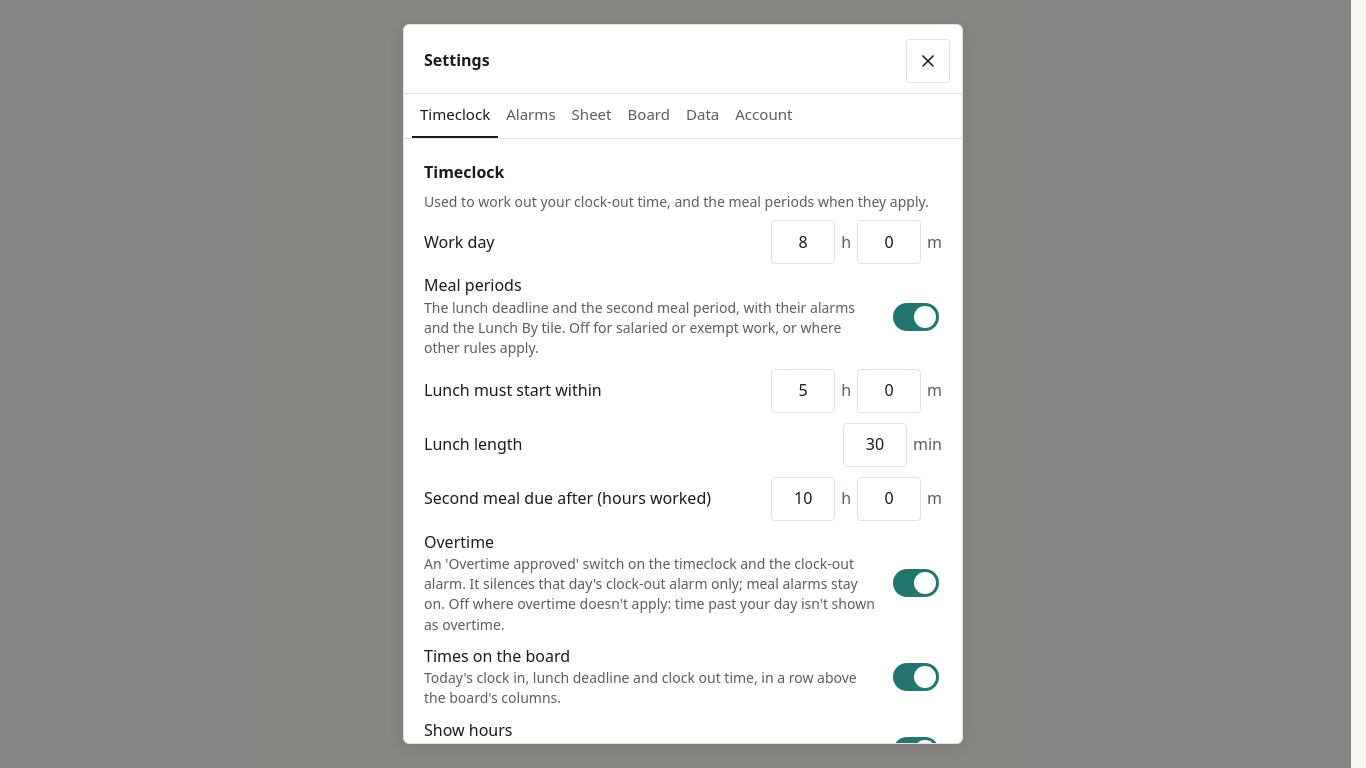
Test: SettingsDialog › saves a category change on the Board tab through the header
What coordinates should you click on to do the following:
click the tab "Board"
I would click on:
 (649, 116)
Its box is [620,94,678,138].
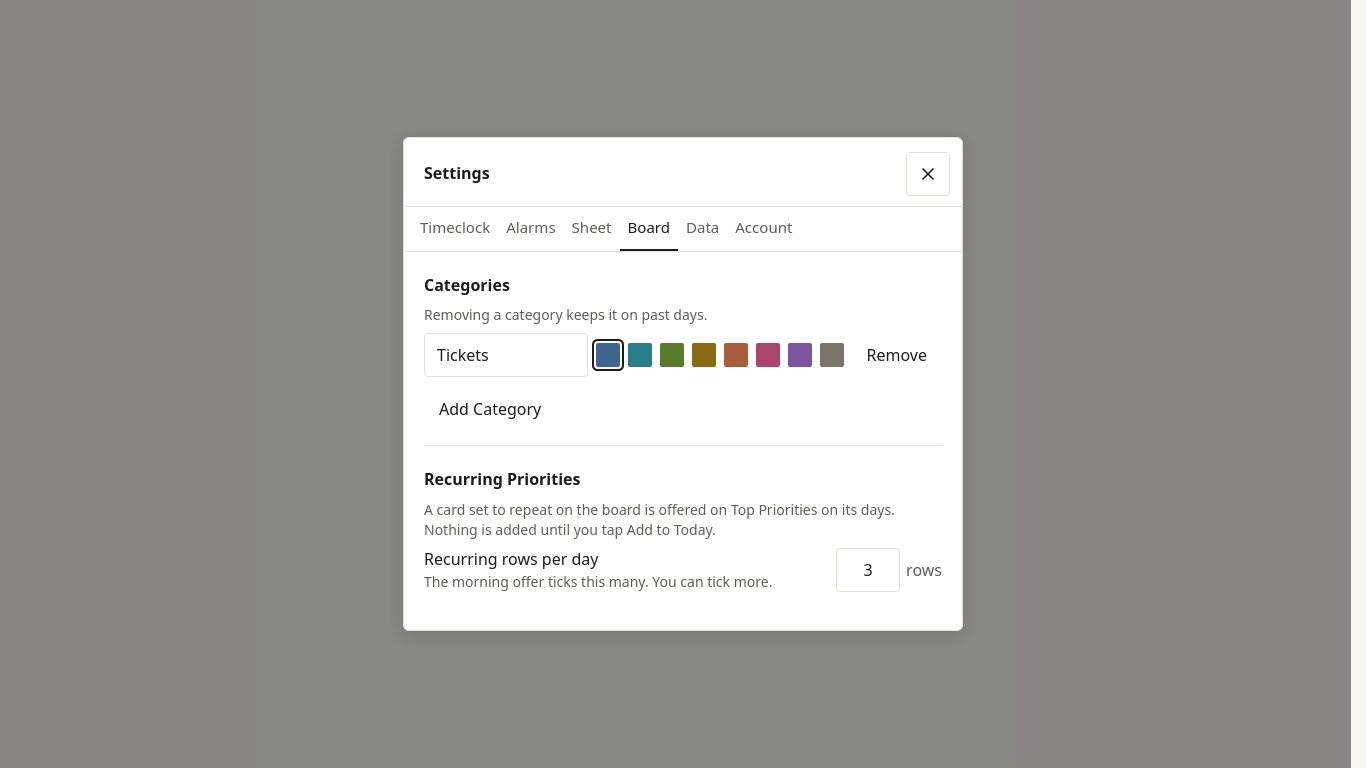
What coordinates should you click on to do the following:
click the radio button named "Pink"
I would click on:
 (768, 355)
Its box is [756,343,780,367].
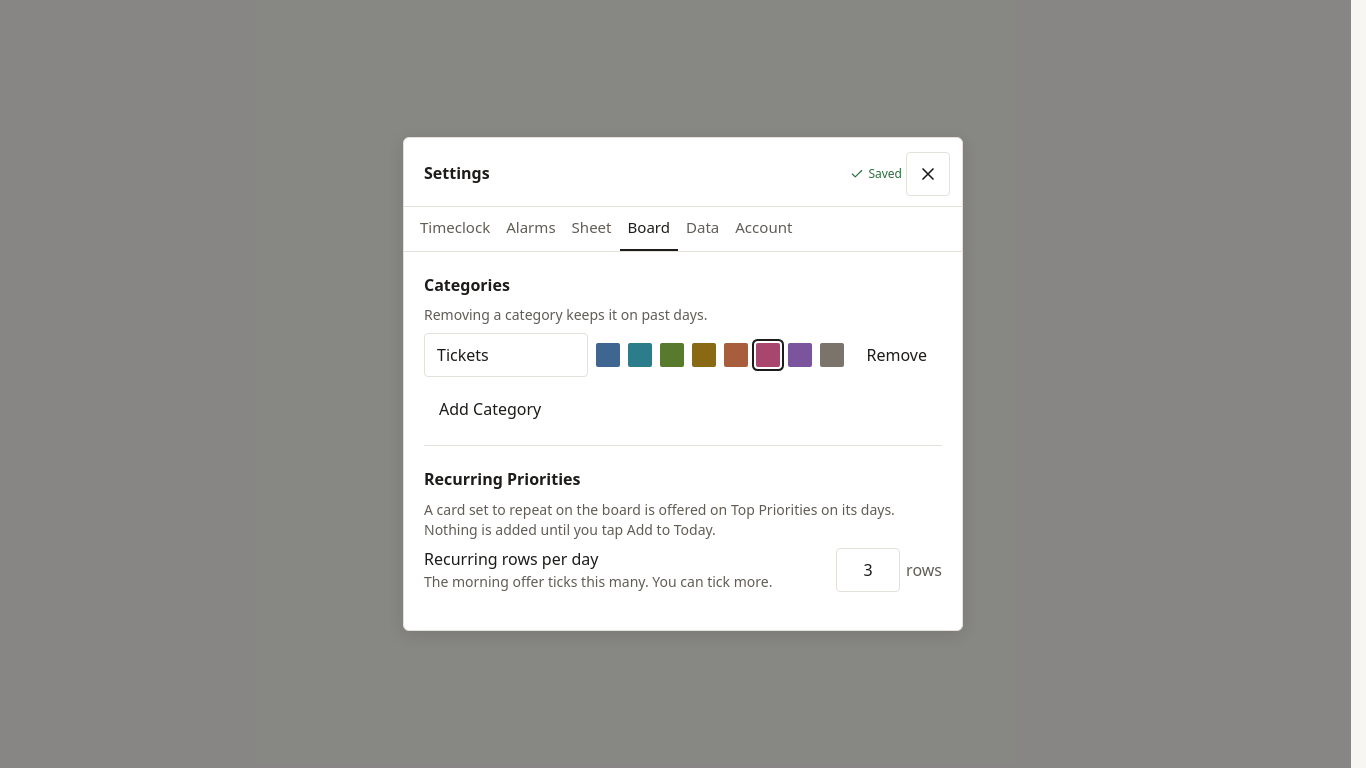
Expected: the message reads "Saved", [868,165,902,182]
What coordinates should you click on to do the following:
click the radio button named "Teal"
I would click on:
 (640, 355)
Its box is [628,343,652,367].
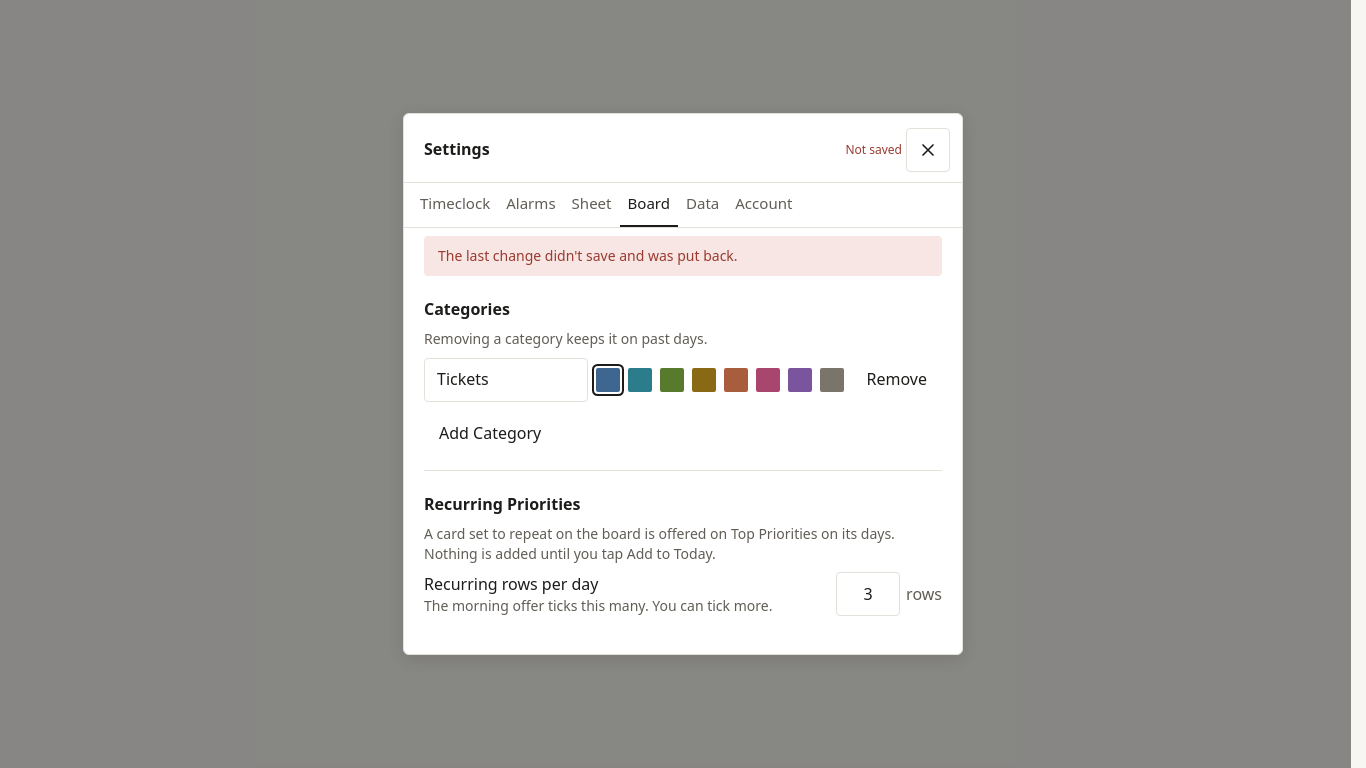
Expected: the message reads "Not saved", [845,141,902,158]
